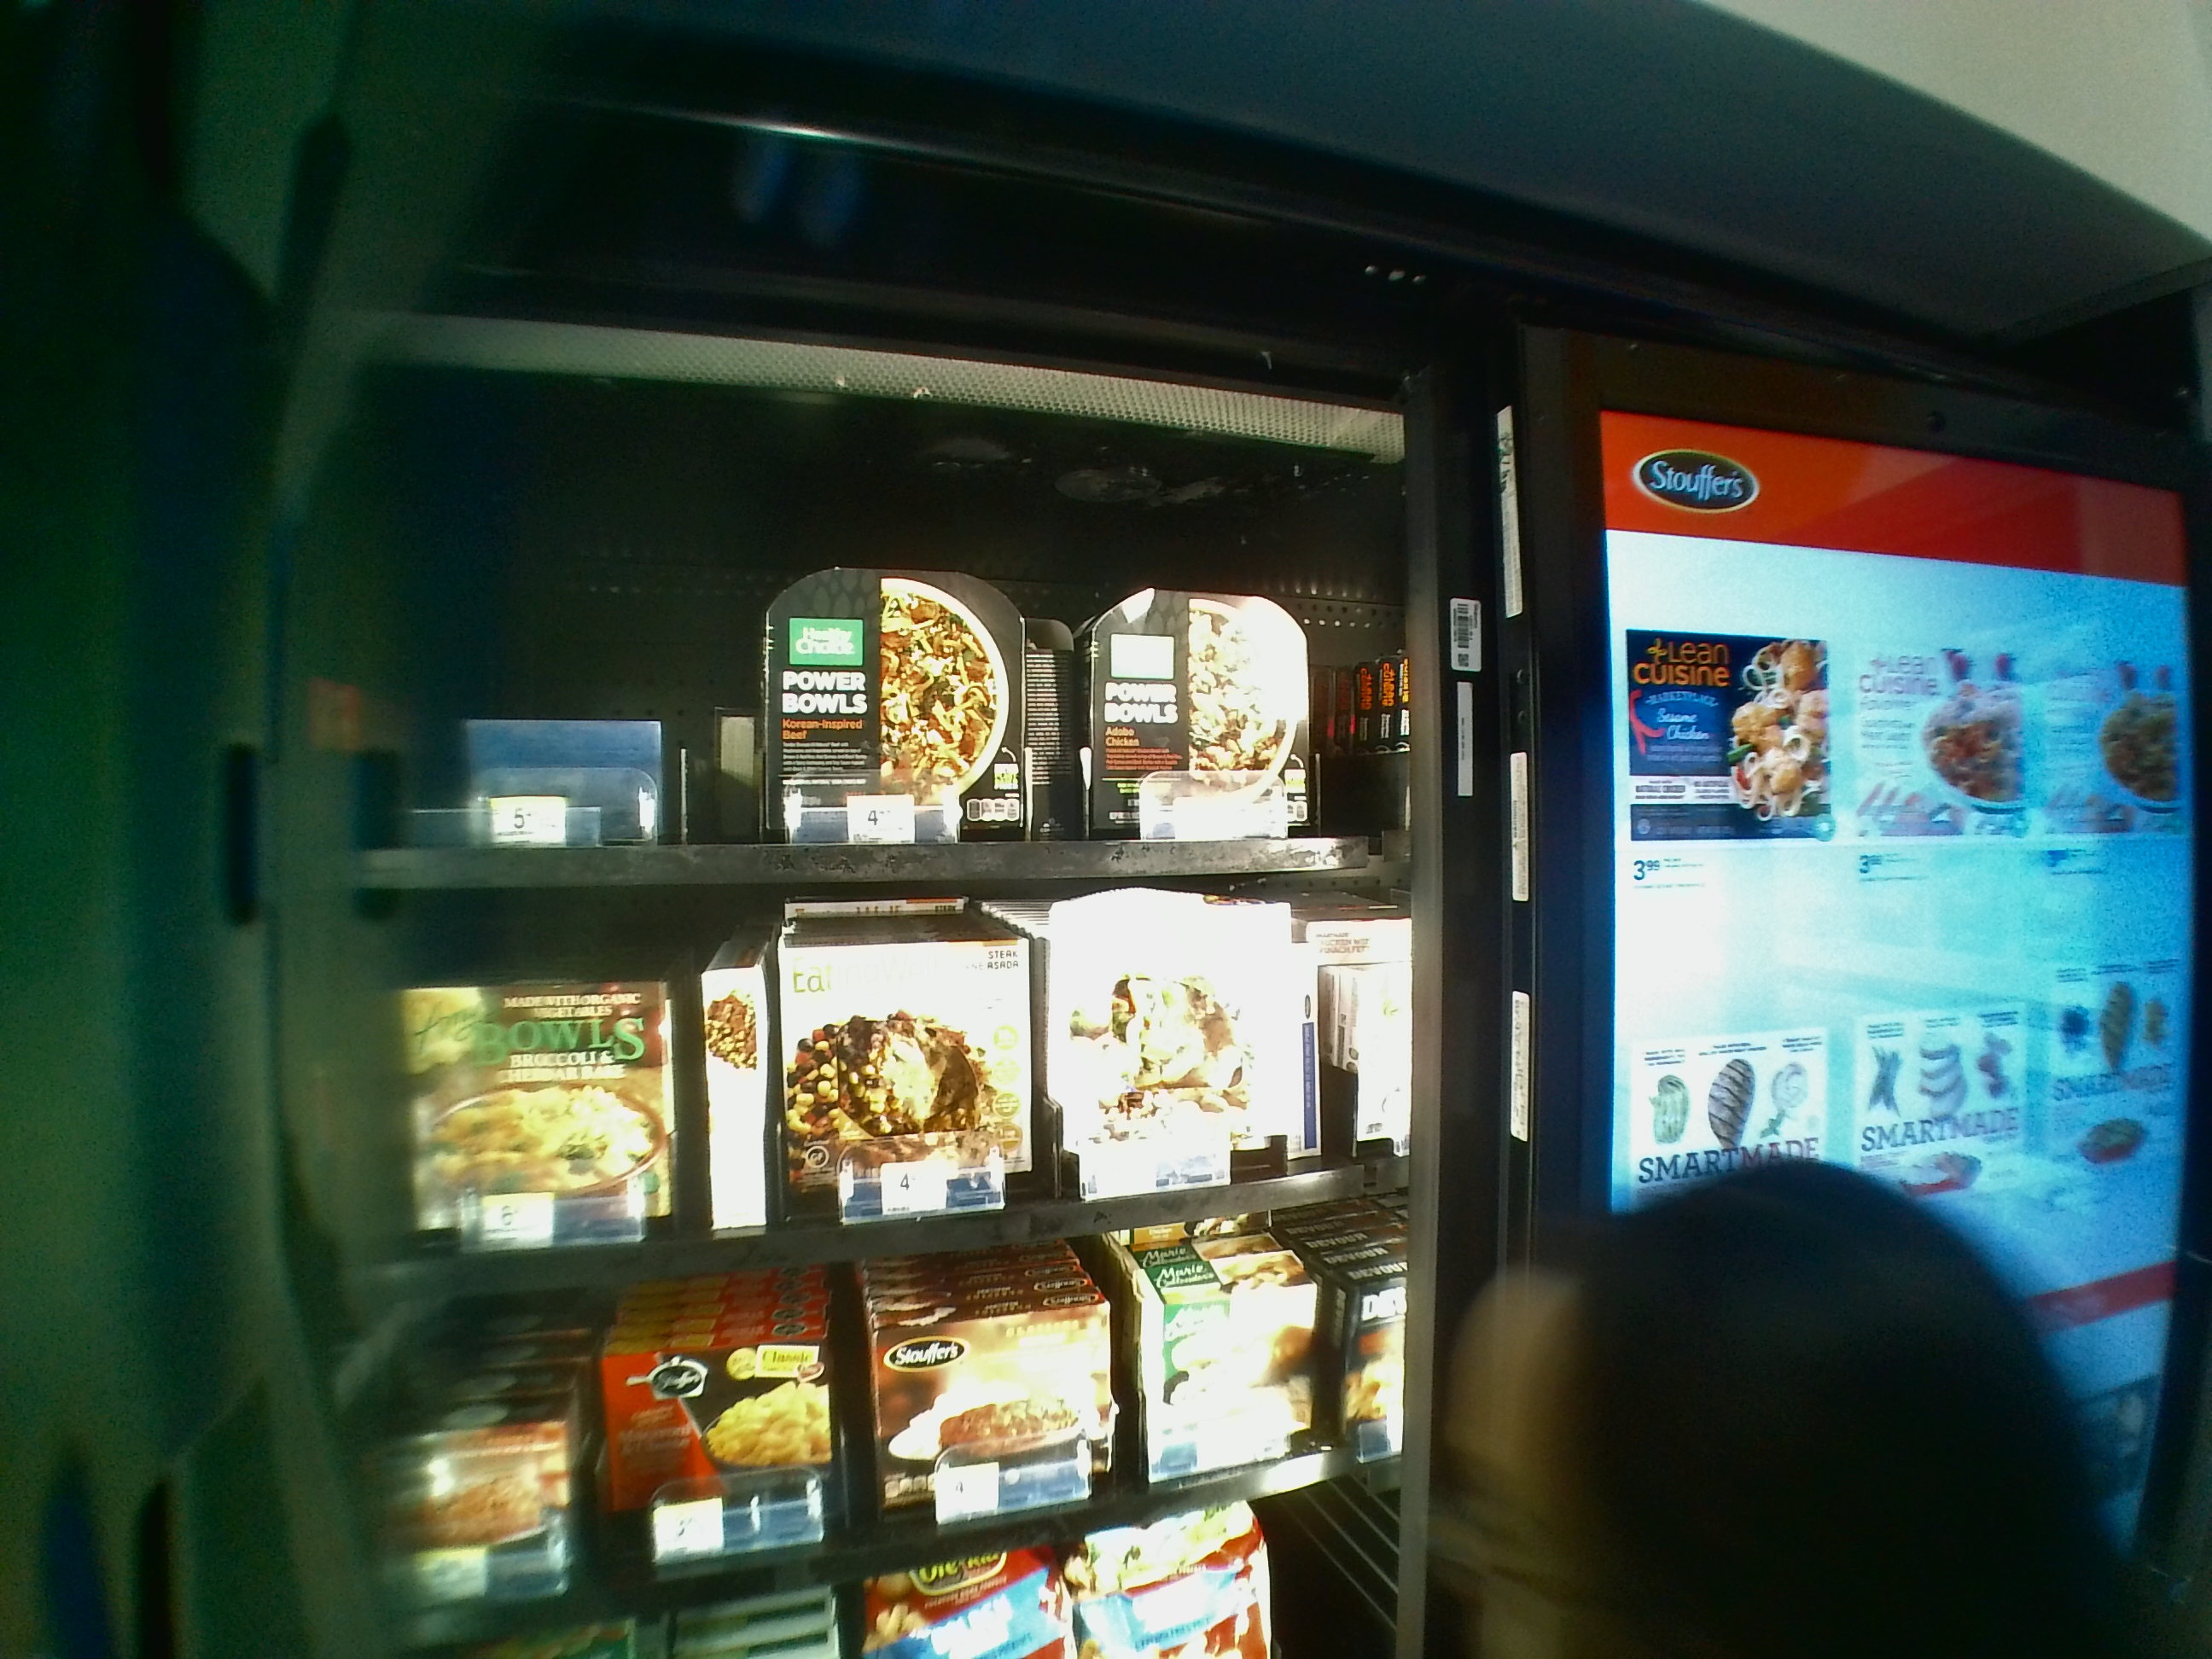shelf: (350, 457, 1390, 889), (350, 904, 1400, 1305)
